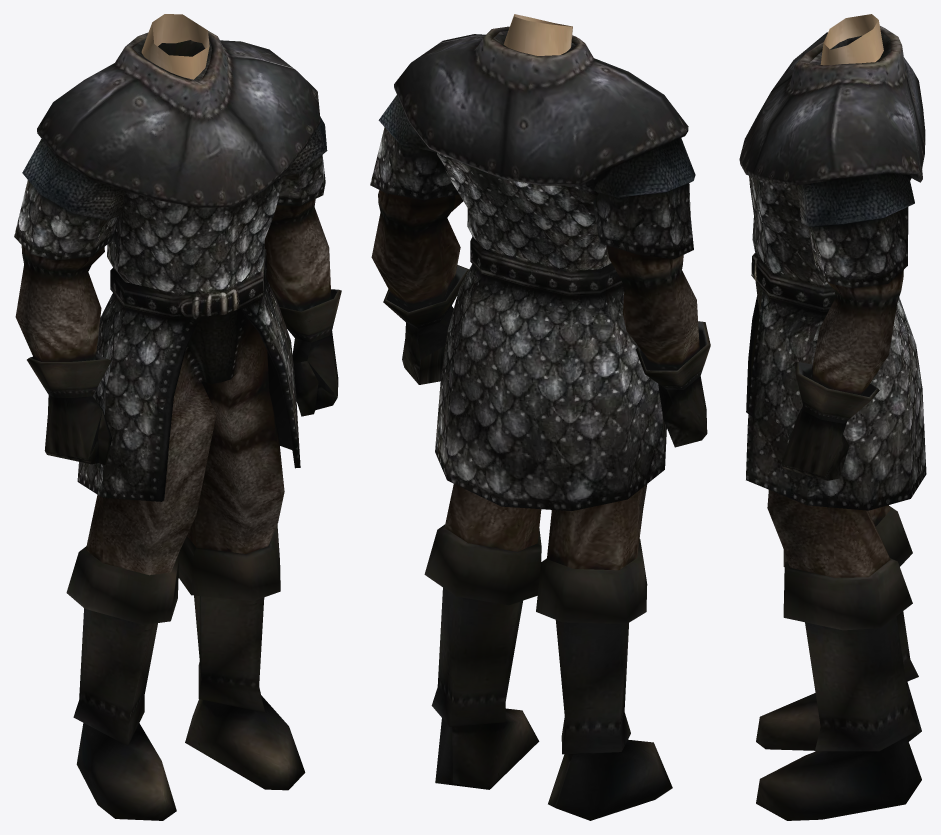
Rendered from KM_BOOTLEG_IRONSCALES.glb.
3 renders of one model, left to right at view 1: azimuth 30°, elevation 25°; view 2: azimuth 150°, elevation 25°; view 3: azimuth 270°, elevation 25°, orthographic. The views are drawn at different scales.
Visible parts, largest first — view 1: KM_BOOTLEG_IRONSCALES; view 2: KM_BOOTLEG_IRONSCALES; view 3: KM_BOOTLEG_IRONSCALES.
Part boxes in pixels (x1,y1,x2,y2): KM_BOOTLEG_IRONSCALES: [14, 14, 341, 820]; KM_BOOTLEG_IRONSCALES: [370, 14, 710, 820]; KM_BOOTLEG_IRONSCALES: [739, 14, 926, 820].
Bounding box in the file's own units: 0.7164 × 1.69 × 0.3808.
Materials: 2 (2 with a texture image).
